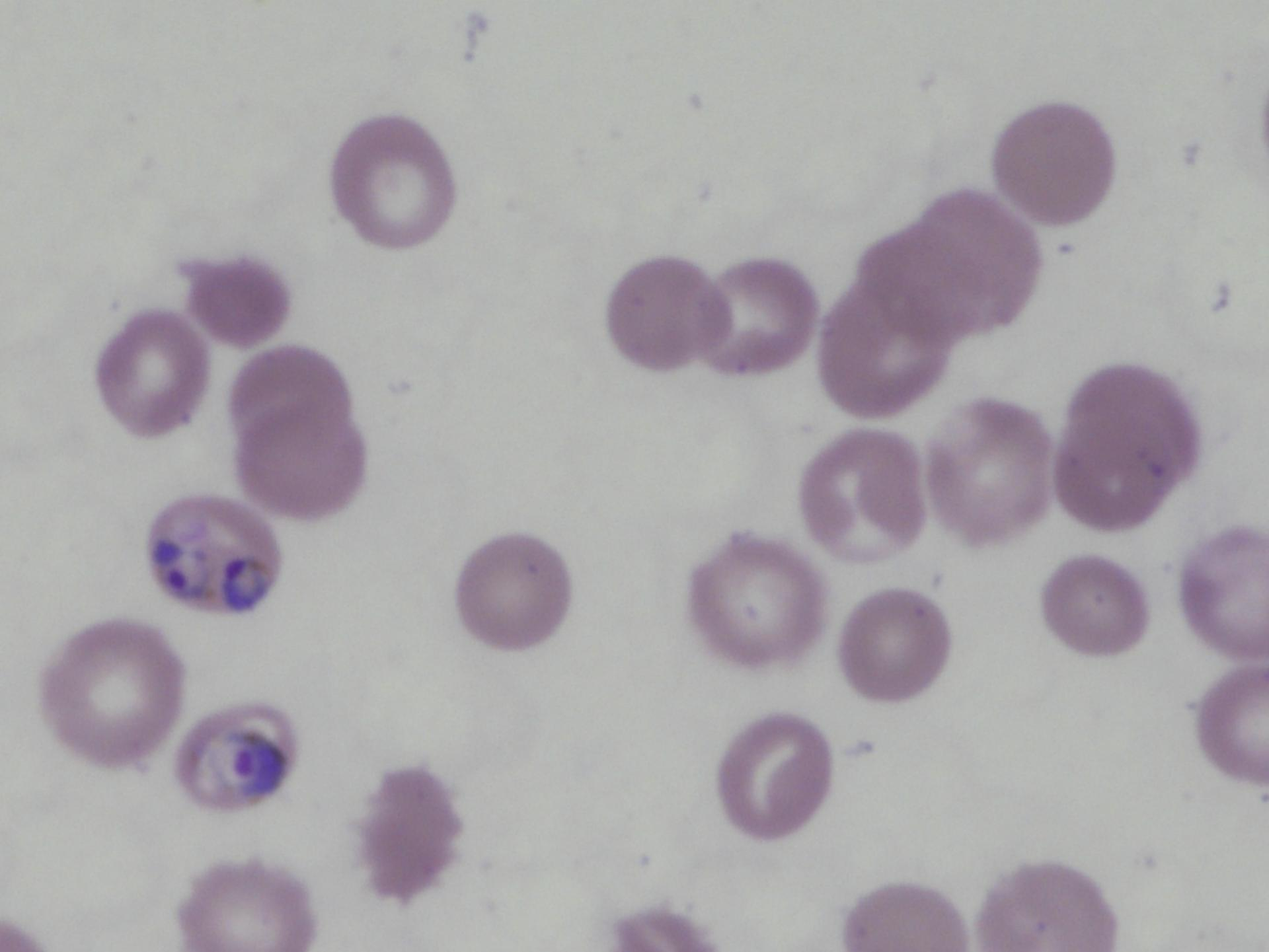Infected: (147, 497, 277, 616), (177, 704, 295, 811)
Uninfected: (864, 190, 1037, 342), (1054, 363, 1200, 530), (229, 346, 365, 517), (40, 625, 180, 767), (924, 398, 1051, 540), (800, 426, 928, 560), (819, 293, 949, 420), (689, 538, 820, 664), (332, 116, 456, 246), (993, 103, 1115, 223), (355, 766, 463, 901), (716, 715, 831, 838), (612, 256, 734, 369), (96, 312, 208, 433), (457, 534, 570, 649), (839, 590, 951, 699), (979, 863, 1114, 952), (178, 861, 310, 951), (711, 261, 815, 371), (1180, 528, 1268, 653), (1042, 557, 1147, 657), (182, 256, 289, 348), (845, 883, 967, 952), (1197, 669, 1269, 784)
